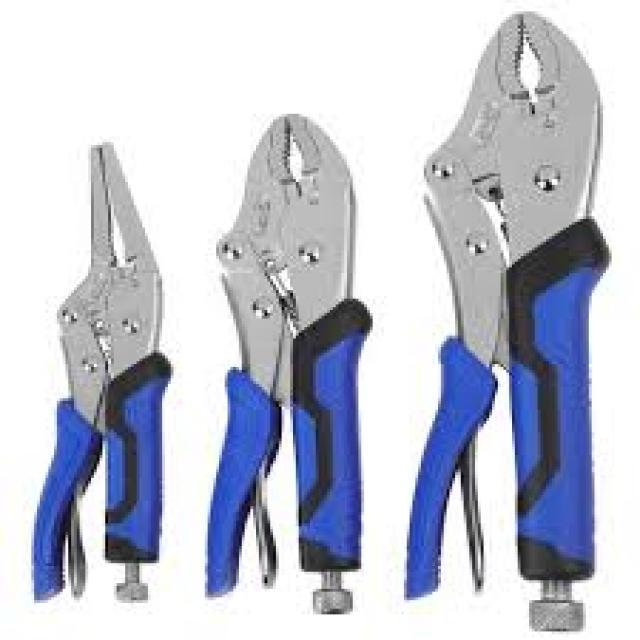pliers: (404, 4, 616, 618), (194, 105, 376, 616), (15, 134, 174, 614)
